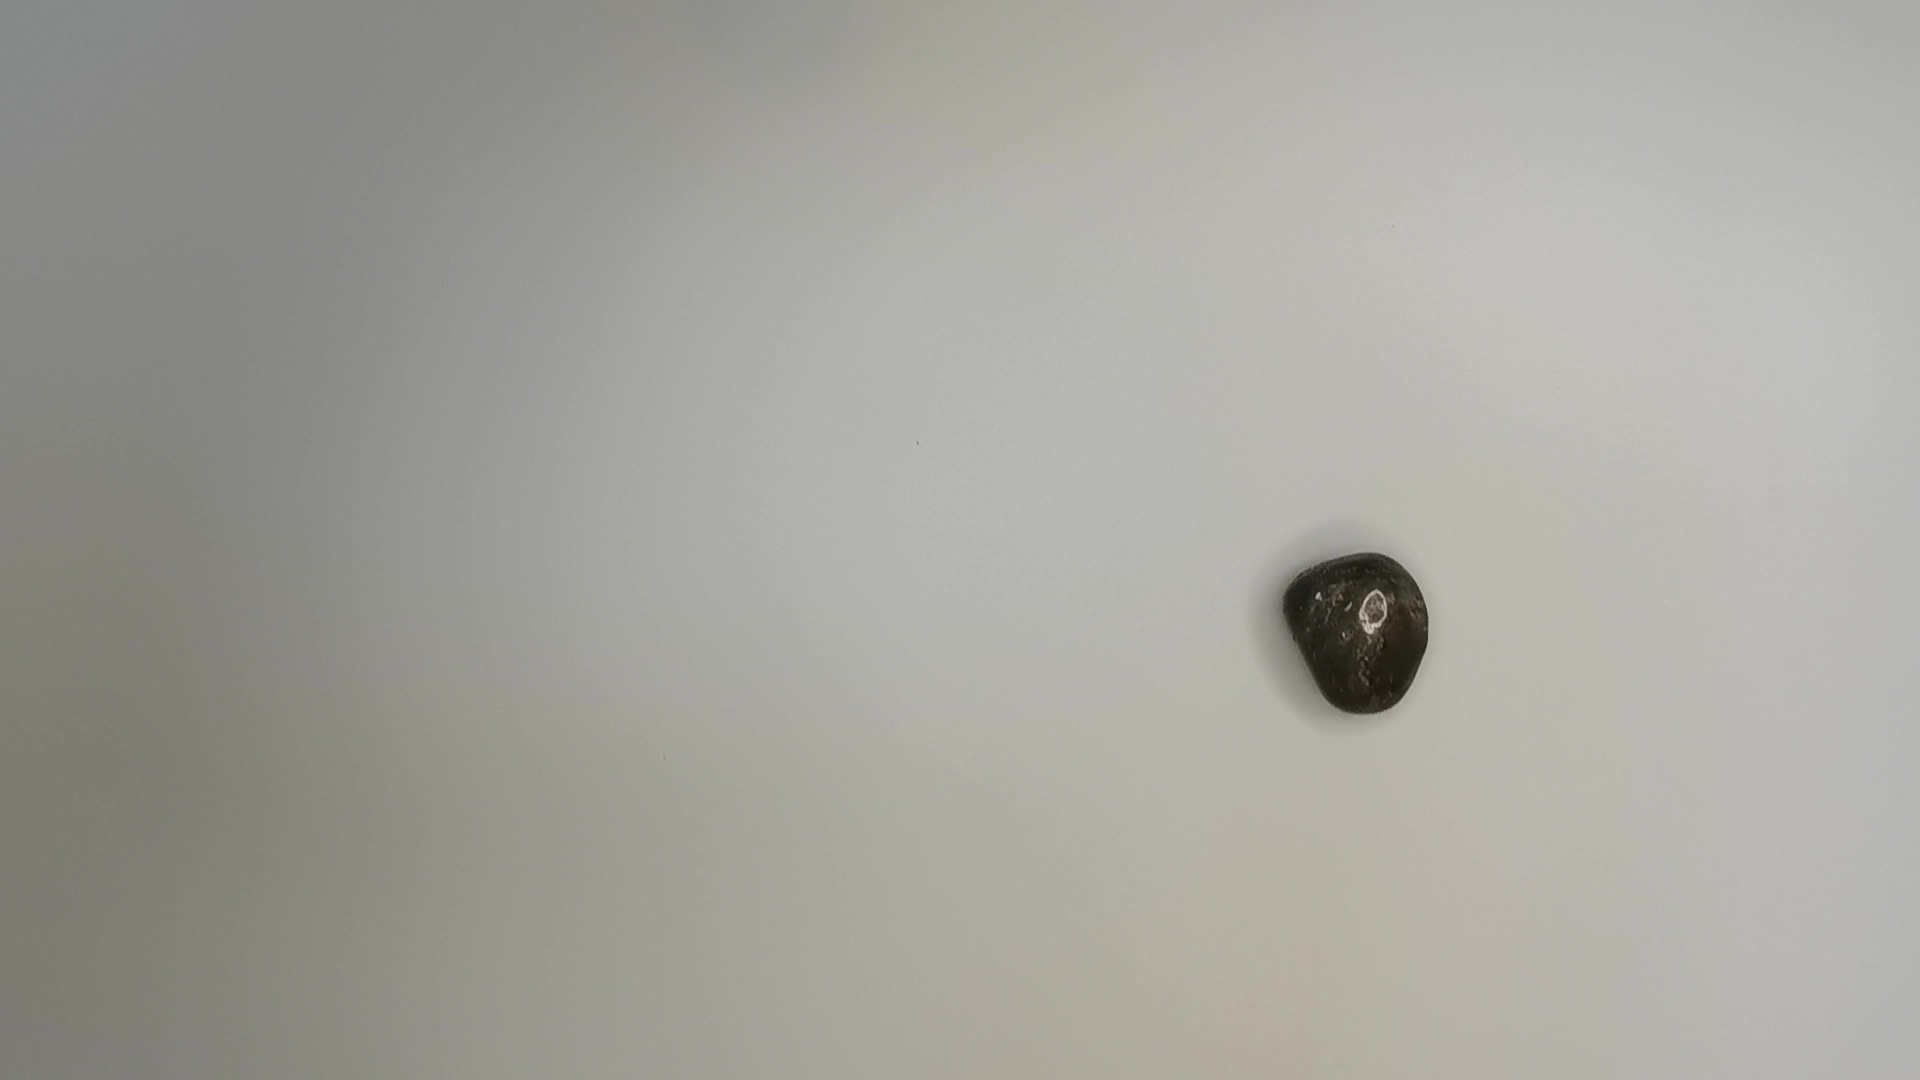ceramic: (1269, 550, 1445, 719)
